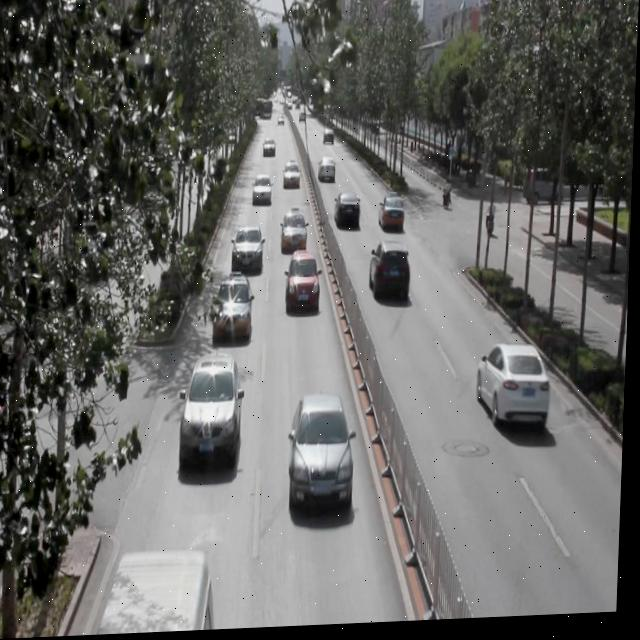car: (290, 402, 358, 520), (184, 360, 245, 478), (478, 350, 554, 440), (215, 282, 255, 352), (371, 248, 412, 312), (285, 257, 323, 322), (233, 234, 264, 283), (282, 216, 309, 263), (335, 199, 362, 241), (380, 202, 407, 241), (254, 180, 273, 214), (283, 166, 302, 198), (318, 163, 337, 192)
truck: (104, 554, 220, 636)
